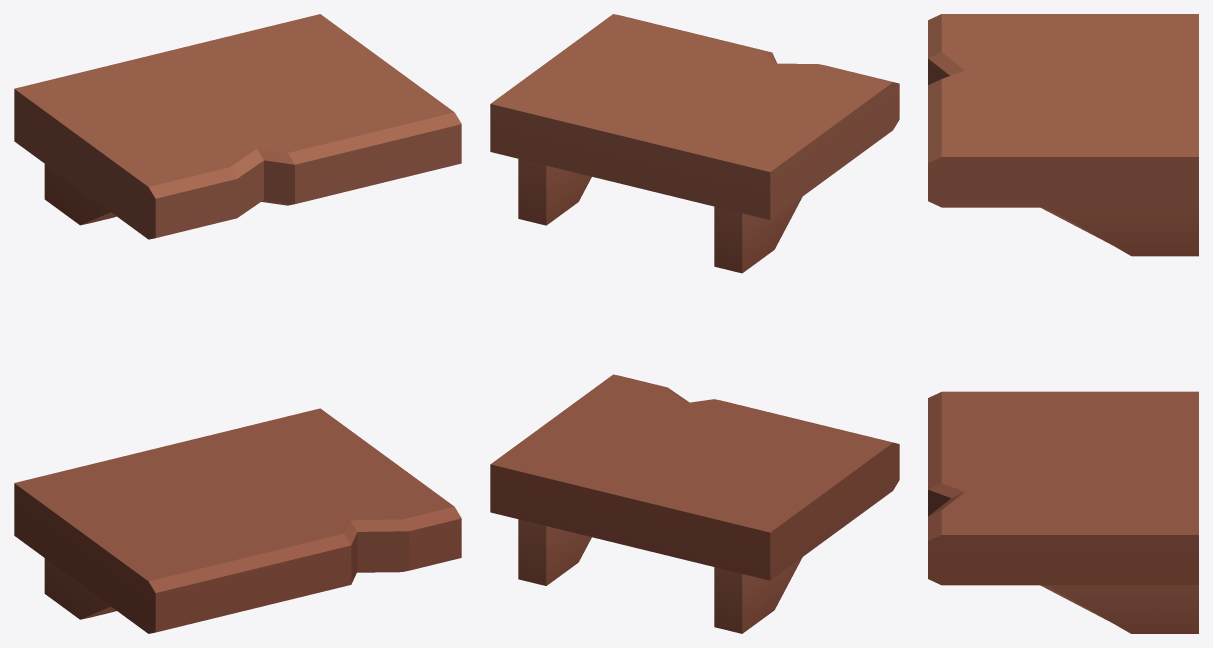
The model's file is ShelfR4L.glb.
The picture shows the model from 3 angles, left to right: view 1: azimuth 30°, elevation 25°; view 2: azimuth 150°, elevation 25°; view 3: azimuth 270°, elevation 25°; orthographic projection. The views are drawn at different scales.
Parts seen in each view (by area): view 1: shelves; view 2: shelves; view 3: shelves.
Boxes of the visible parts, left/top/right/bottom form: shelves: left=14, top=14, right=461, bottom=633; shelves: left=490, top=14, right=899, bottom=633; shelves: left=928, top=14, right=1198, bottom=633.
Bounding box in the file's own units: 1 × 1.6 × 0.8.
1 material, 1 textured.
